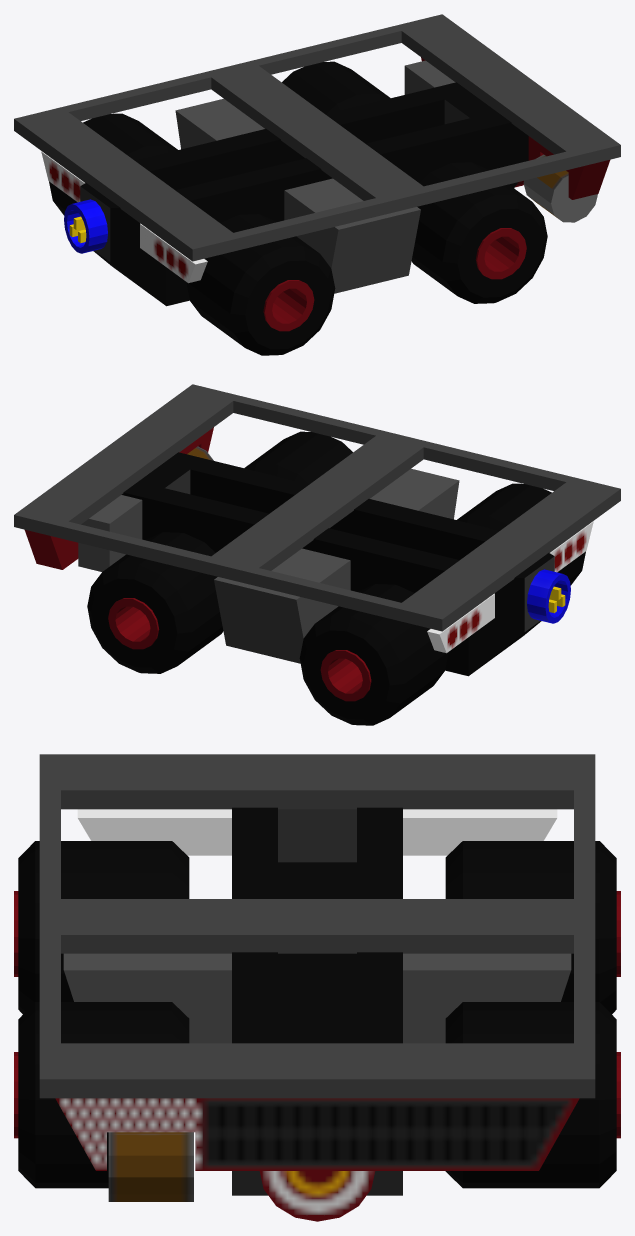
The model's file is terminator.glb.
The picture shows the model from 3 angles, top to bottom: view 1: azimuth 30°, elevation 25°; view 2: azimuth 150°, elevation 25°; view 3: azimuth 270°, elevation 25°; orthographic projection. The views are drawn at different scales.
Parts seen in each view (by area): view 1: Cube; view 2: Cube; view 3: Cube.
Part boxes in pixels (left/top/right/bottom): Cube: left=14, top=14, right=620, bottom=355; Cube: left=14, top=384, right=620, bottom=725; Cube: left=14, top=754, right=620, bottom=1221.
Size of the model in its own units: 9.59 by 2.53 by 7.1.
Materials: 2 (1 with a texture image).
